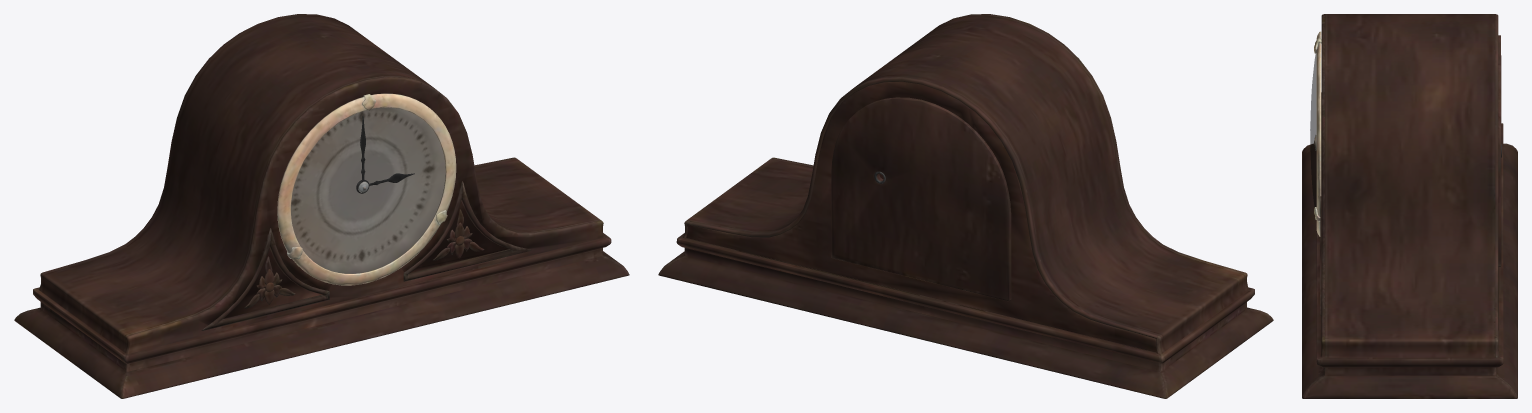
File: mantel_clock_01.glb
3 views of the same model, side by side, from view 1: azimuth 30°, elevation 25°; view 2: azimuth 150°, elevation 25°; view 3: azimuth 270°, elevation 25° (orthographic).
Parts seen in each view (by area): view 1: mantel_clock_01, mantel_clock_01_glass; view 2: mantel_clock_01; view 3: mantel_clock_01, mantel_clock_01_glass.
Part boxes in pixels (x1,y1,x2,y2): mantel_clock_01: [14, 14, 629, 398]; mantel_clock_01_glass: [291, 107, 445, 273]; mantel_clock_01: [658, 14, 1273, 398]; mantel_clock_01: [1302, 14, 1517, 398]; mantel_clock_01_glass: [1310, 53, 1316, 206].
Bounding box in the file's own units: 0.3423 × 0.1605 × 0.126.
Materials: 2 (2 with a texture image).
